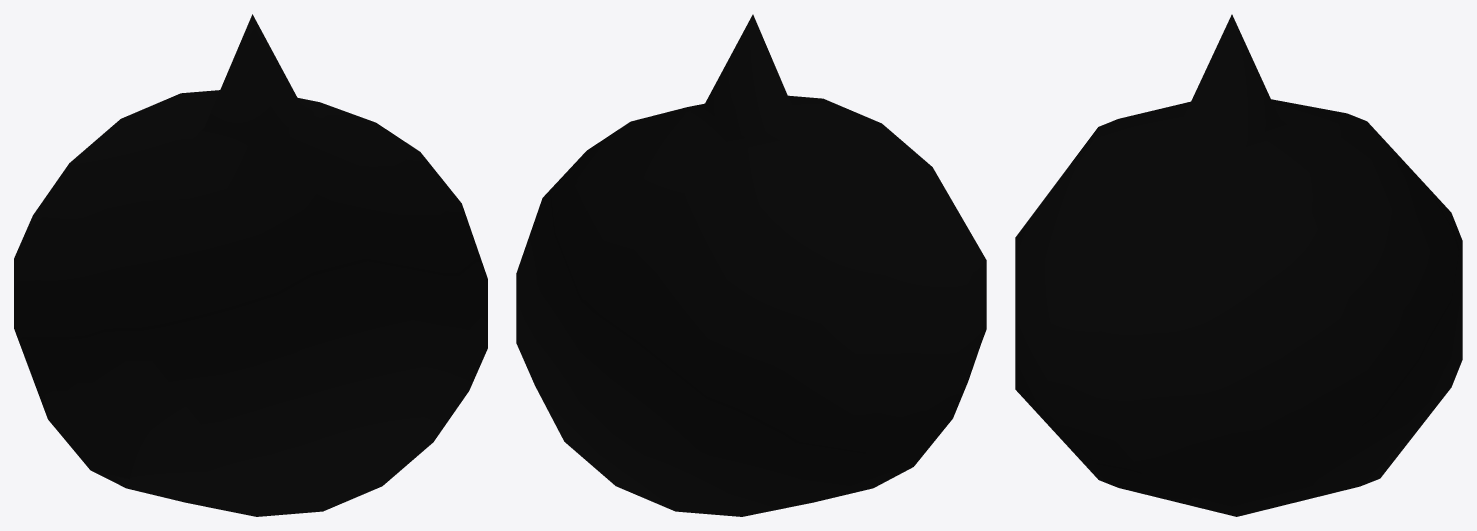
File: ps2_save-icons_eyetoyplay2.glb
The picture shows the model from 3 angles, left to right: view 1: azimuth 30°, elevation 25°; view 2: azimuth 150°, elevation 25°; view 3: azimuth 270°, elevation 25°; orthographic projection.
Parts seen in each view (by area): view 1: progress.ico; view 2: progress.ico; view 3: progress.ico.
Boxes of the visible parts, left/top/right/bottom form: progress.ico: left=14, top=14, right=487, bottom=516; progress.ico: left=516, top=14, right=986, bottom=516; progress.ico: left=1015, top=14, right=1462, bottom=516.
Bounding box in the file's own units: 3.41 × 3.84 × 3.25.
1 material, 1 textured.
